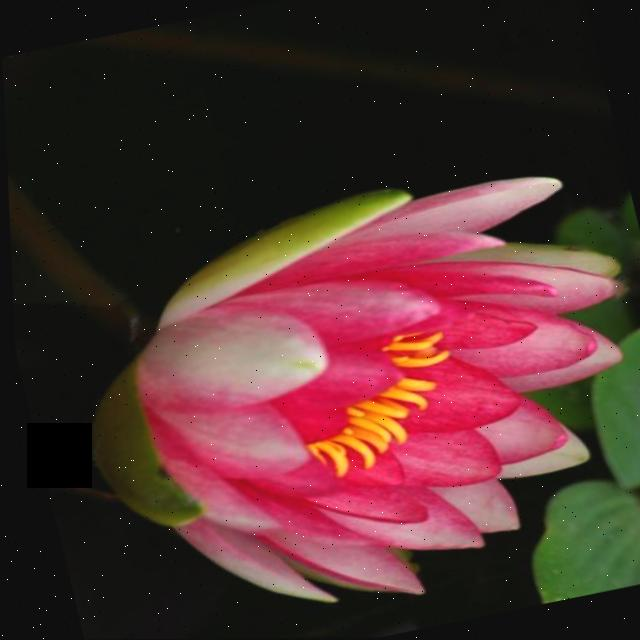rose: (3, 75, 640, 640)
